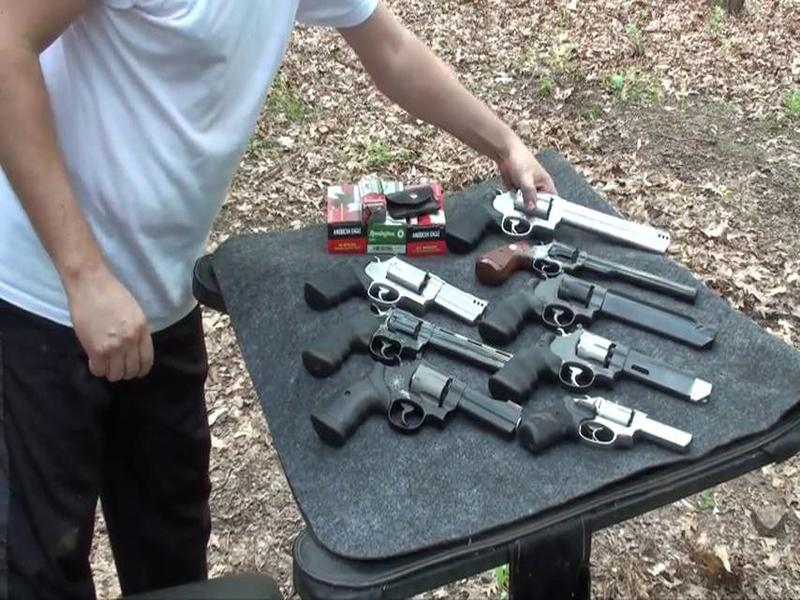Revolver: (422, 163, 699, 276)
